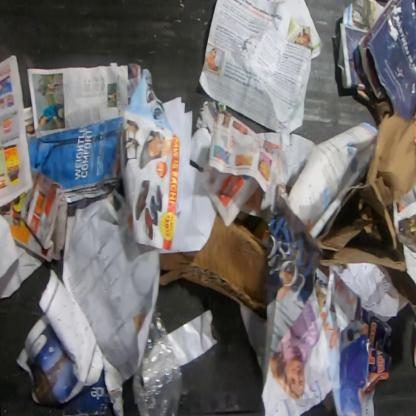cardboard: (312, 111, 416, 306), (158, 213, 271, 375), (354, 297, 394, 403)
soft_plastic: (130, 301, 183, 415), (168, 308, 219, 367)
